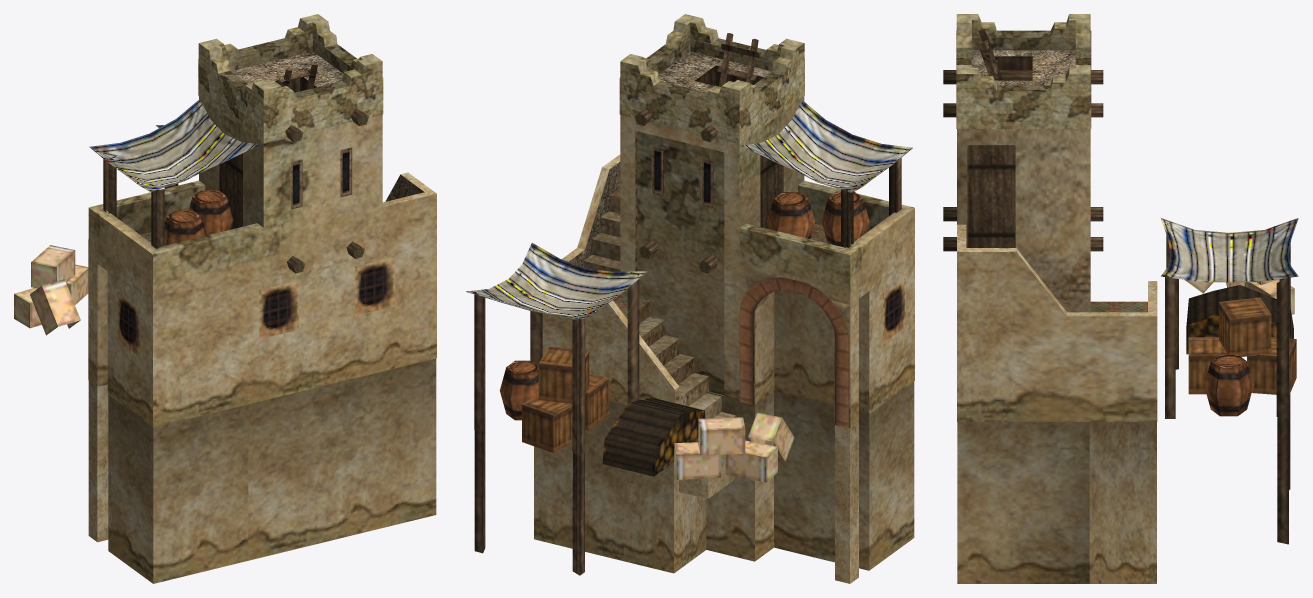
Rendered from pers_storehouse.glb.
The picture shows the model from 3 angles, left to right: view 1: azimuth 30°, elevation 25°; view 2: azimuth 150°, elevation 25°; view 3: azimuth 270°, elevation 25°; orthographic projection. The views are drawn at different scales.
Visible parts, largest first — view 1: pers_storehouse_part0, pers_storehouse_part1; view 2: pers_storehouse_part0, pers_storehouse_part1; view 3: pers_storehouse_part0, pers_storehouse_part1.
Part boxes in pixels (bbox=[...]): pers_storehouse_part0: bbox=[88, 14, 436, 583]; pers_storehouse_part1: bbox=[14, 190, 233, 335]; pers_storehouse_part0: bbox=[466, 14, 914, 583]; pers_storehouse_part1: bbox=[499, 191, 869, 482]; pers_storehouse_part0: bbox=[943, 14, 1298, 583]; pers_storehouse_part1: bbox=[1184, 279, 1296, 416].
Bounding box in the file's own units: 3.26 × 5.14 × 3.4.
1 material, 1 textured.
